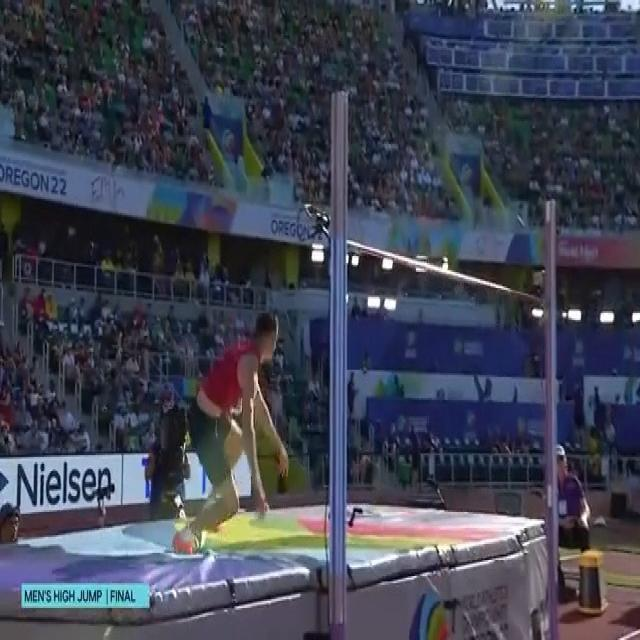land: (172, 306, 290, 556)
